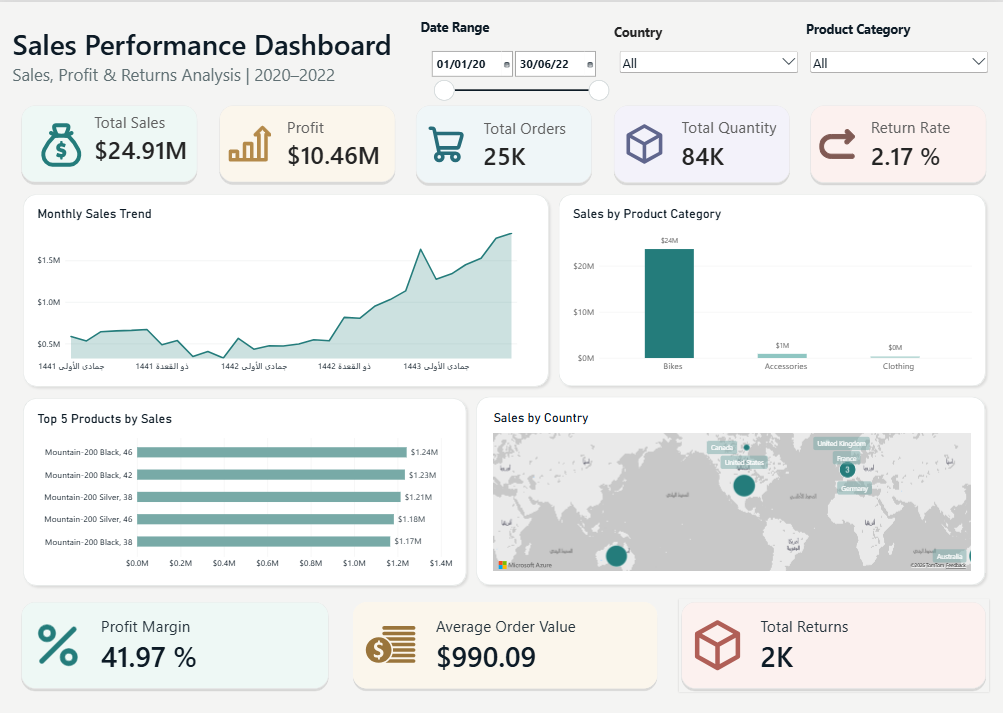

What the dashboard file says about the page in this screenshot:
{"tool":"powerbi","page":{"name":"Page 1","canvas":[1920,1360],"ordinal":0},"visuals":[{"type":"textbox","title":"Sales Performance Dashboard","box":[30,42.5,745,172.5],"z":0,"group":"g10"},{"type":"group","id":"g1","title":"Group 1","box":[807.1,32.5,1085.7,174.3],"z":1000,"group":"g10"},{"type":"cardVisual","fields":{"Data":["Sales.Total Sales"]},"box":[40,191.9,346.3,157.9],"z":1000,"group":"g2"},{"type":"shape","box":[40,358.6,1018.4,384.2],"z":1000,"group":"g6"},{"type":"clusteredBarChart","title":"Top 5 Products by Sales","fields":{"Category":["Product Lookup.ProductName"],"Y":["Sales.Total Sales"]},"box":[90,800,670,230],"z":1000},{"type":"group","id":"g2","title":"Group 3","box":[40,191.9,1850,161.7],"z":2000,"group":"g10"},{"type":"lineChart","title":"Monthly Sales Trend","fields":{"Category":["Calendar Lookup.Date.Variation.Date Hierarchy.Year","Calendar Lookup.Date.Variation.Date Hierarchy.Month"],"Y":["Sales.Total Sales"]},"box":[60.8,374.9,980.1,350.8],"z":2000,"group":"g6"},{"type":"cardVisual","fields":{"Data":["Sales.Profit"]},"box":[415.9,191.9,346.3,157.6],"z":3000,"group":"g2"},{"type":"group","id":"g3","title":"Group 7","box":[40,358.6,1850,384.2],"z":3000,"group":"g10"},{"type":"cardVisual","fields":{"Data":["Sales.Profit Margin %"]},"box":[40,1136.9,596.2,176.7],"z":3000,"group":"g5"},{"type":"cardVisual","fields":{"Data":["Sales.Total Orders"]},"box":[791.9,191.9,346.3,159.1],"z":4000,"group":"g2"},{"type":"group","id":"g4","title":"Group 8","box":[40,743.6,1849.2,376.7],"z":4000,"group":"g10"},{"type":"cardVisual","fields":{"Data":["Sales.Total Quantity"]},"box":[1167.8,191.9,346.3,158.6],"z":5000,"group":"g2"},{"type":"shape","box":[901.8,743.6,987.4,376.7],"z":5000,"group":"g9"},{"type":"group","id":"g5","title":"Group 9","box":[40,1136.9,1850,176.7],"z":5000,"group":"g10"},{"type":"cardVisual","fields":{"Data":["Sales.Average Order Value"]},"box":[671.3,1136.9,591.8,176.7],"z":5000,"group":"g5"},{"type":"slicer","fields":{"Values":["Calendar Lookup.Date"]},"box":[820.3,89,348.4,120.3],"z":6000,"group":"g1"},{"type":"group","id":"g6","title":"Group 2","box":[40,358.6,1018.4,384.2],"z":6000,"group":"g3"},{"type":"shape","box":[1059.1,359.3,830.9,383.5],"z":6000,"group":"g7"},{"type":"cardVisual","fields":{"Data":["Sales.Return Rate %"]},"box":[1543.7,191.9,346.3,158.6],"z":7000,"group":"g2"},{"type":"group","id":"g7","title":"Group 4","box":[1059.1,359.3,830.9,383.5],"z":7000,"group":"g3"},{"type":"clusteredColumnChart","title":"Sales by Product Category","fields":{"Category":["Product Categories Lookup.CategoryName"],"Y":["Sales.Total Sales"]},"box":[1079.3,375.6,792.6,350.8],"z":7000,"group":"g7"},{"type":"cardVisual","fields":{"Data":["Returns Data.Total Returns"]},"box":[1298.2,1136.9,591.8,176.7],"z":7000,"group":"g5"},{"type":"shape","box":[40,745.3,861.8,375],"z":7001,"group":"g8"},{"type":"slicer","fields":{"Values":["Territory Lookup.Country"]},"box":[1182.2,89,349.6,120.3],"z":8000,"group":"g1"},{"type":"group","id":"g8","title":"Group 5","box":[40,745.3,861.8,375],"z":8000,"group":"g11"},{"type":"slicer","fields":{"Values":["Product Categories Lookup.CategoryName"]},"box":[1545.3,89,348.4,120.3],"z":9000,"group":"g1"},{"type":"azureMap","title":"Sales by Country","fields":{"Category":["Territory Lookup.Country"],"Size":["Sales.Total Sales"]},"box":[927.2,763.7,941.5,336.5],"z":9000,"group":"g9"},{"type":"group","id":"g9","title":"Group 6","box":[901.8,743.6,987.4,376.7],"z":9001,"group":"g11"},{"type":"clusteredBarChart","title":"Top 5 Products by Sales","fields":{"Category":["Product Lookup.ProductName"],"Y":["Sales.Total Sales"]},"box":[59.8,766.5,822.8,336.5],"z":9001,"group":"g8"},{"type":"group","id":"g10","title":"Group 10","box":[30,32.5,1862.9,1281.1],"z":9002},{"type":"group","id":"g11","title":"Group 11","box":[40,743.6,1849.2,376.7],"z":9003,"group":"g4"},{"type":"textbox","box":[807.1,32.5,361.2,61.8],"z":10000,"group":"g1"},{"type":"textbox","box":[1174.8,40.2,361.2,54.1],"z":11000,"group":"g1"},{"type":"textbox","box":[1542.5,36.4,351.1,57.9],"z":12000,"group":"g1"}]}

Visuals, with their boxes in screenshot pixels (x1, y1, x2, y2), scaled from the page's 1920x1360 canvas onto the 1003x713 screenshot:
"Sales Performance Dashboard" textbox: box=[16, 22, 405, 113]
"Group 1" group: box=[422, 17, 989, 108]
cardVisual - Sales.Total Sales: box=[21, 101, 202, 183]
shape: box=[21, 188, 553, 389]
"Top 5 Products by Sales" clusteredBarChart: box=[47, 419, 397, 540]
"Group 3" group: box=[21, 101, 987, 185]
"Monthly Sales Trend" lineChart: box=[32, 197, 544, 380]
cardVisual - Sales.Profit: box=[217, 101, 398, 183]
"Group 7" group: box=[21, 188, 987, 389]
cardVisual - Sales.Profit Margin %: box=[21, 596, 332, 689]
cardVisual - Sales.Total Orders: box=[414, 101, 595, 184]
"Group 8" group: box=[21, 390, 987, 587]
cardVisual - Sales.Total Quantity: box=[610, 101, 791, 184]
shape: box=[471, 390, 987, 587]
"Group 9" group: box=[21, 596, 987, 689]
cardVisual - Sales.Average Order Value: box=[351, 596, 660, 689]
slicer - Calendar Lookup.Date: box=[429, 47, 611, 110]
"Group 2" group: box=[21, 188, 553, 389]
shape: box=[553, 188, 987, 389]
cardVisual - Sales.Return Rate %: box=[806, 101, 987, 184]
"Group 4" group: box=[553, 188, 987, 389]
"Sales by Product Category" clusteredColumnChart: box=[564, 197, 978, 381]
cardVisual - Returns Data.Total Returns: box=[678, 596, 987, 689]
shape: box=[21, 391, 471, 587]
slicer - Territory Lookup.Country: box=[618, 47, 800, 110]
"Group 5" group: box=[21, 391, 471, 587]
slicer - Product Categories Lookup.CategoryName: box=[807, 47, 989, 110]
"Sales by Country" azureMap: box=[484, 400, 976, 577]
"Group 6" group: box=[471, 390, 987, 587]
"Top 5 Products by Sales" clusteredBarChart: box=[31, 402, 461, 578]
"Group 10" group: box=[16, 17, 989, 689]
"Group 11" group: box=[21, 390, 987, 587]
textbox: box=[422, 17, 610, 49]
textbox: box=[614, 21, 802, 49]
textbox: box=[806, 19, 989, 49]
